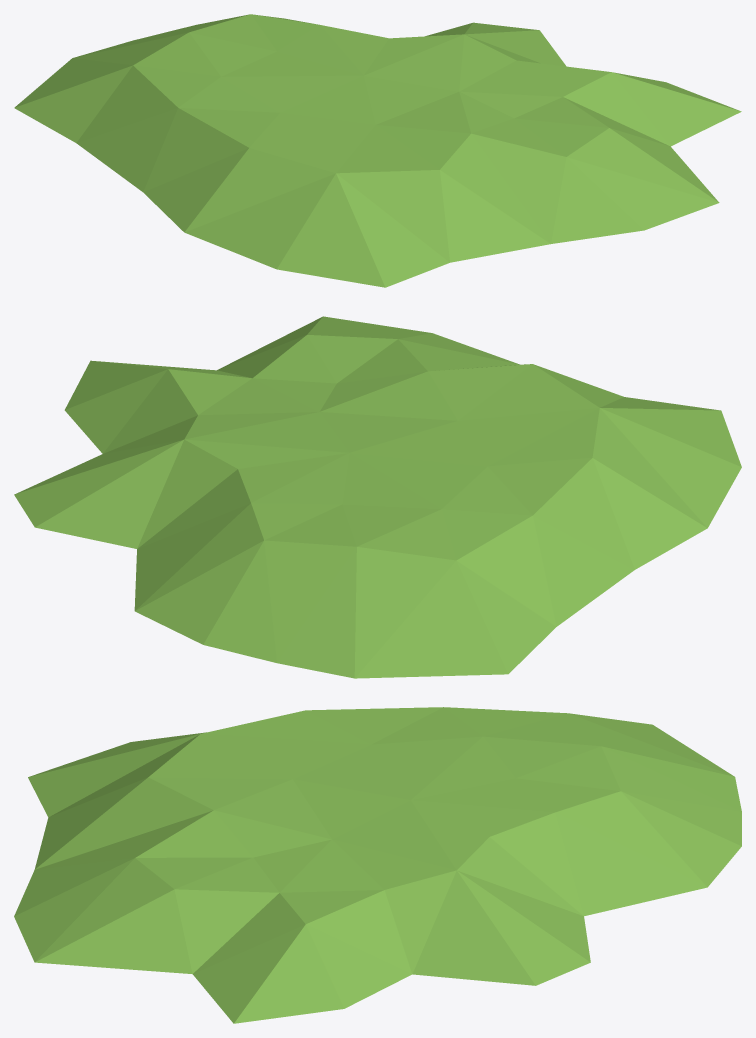
File: MT_Mountain_S_b_13.fbx
3 views of the same model, one above another, from view 1: azimuth 30°, elevation 25°; view 2: azimuth 150°, elevation 25°; view 3: azimuth 270°, elevation 25° (orthographic). The views are drawn at different scales.
Visible parts, largest first — view 1: MT_Mountain_S_b_13; view 2: MT_Mountain_S_b_13; view 3: MT_Mountain_S_b_13.
Part boxes in pixels (box(x1,y1,x2,y2)): MT_Mountain_S_b_13: box(14, 14, 741, 287); MT_Mountain_S_b_13: box(14, 316, 741, 678); MT_Mountain_S_b_13: box(14, 707, 741, 1023).
Bounding box in the file's own units: 2105 × 206 × 2166.
